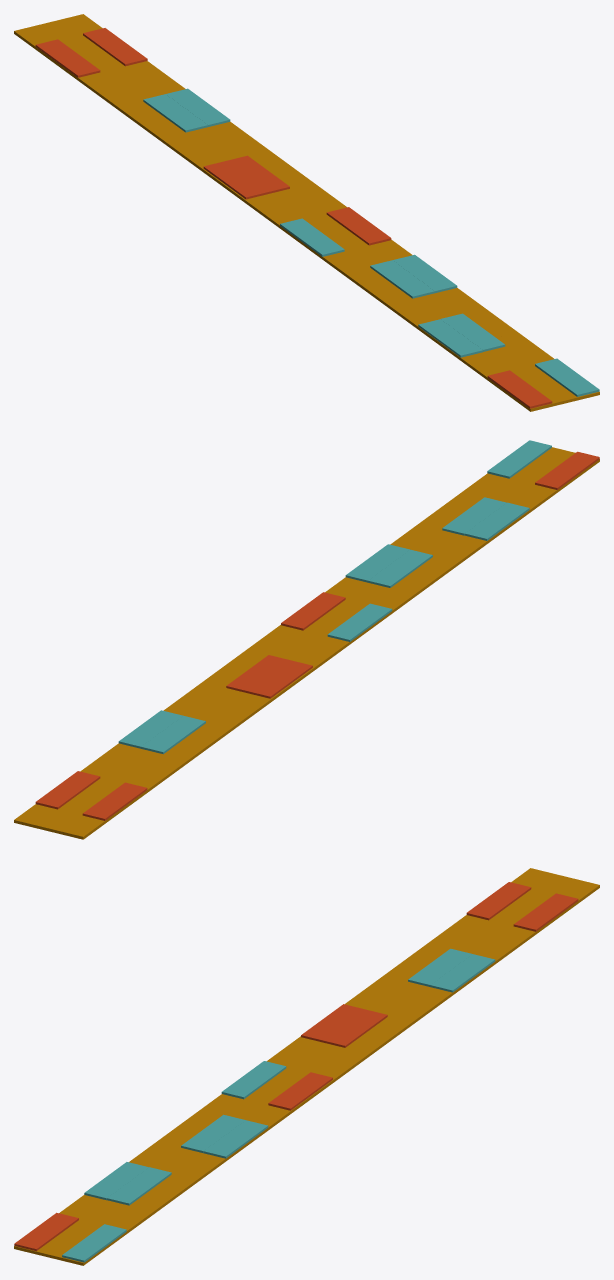
Rendered from _skelet.fbx.
3 renders of one model, top to bottom at view 1: azimuth 30°, elevation 25°; view 2: azimuth 150°, elevation 25°; view 3: azimuth 330°, elevation 25°, orthographic.
Parts seen in each view (by area): view 1: taban3, taban1, taban5, taban11, taban8, taban7, taban13, taban9, taban12, taban6, taban2, taban4 (+15 smaller); view 2: taban3, taban1, taban5, taban11, taban13, taban7, taban8, taban9, taban6, taban2, taban12, taban (+15 smaller); view 3: taban3, taban1, taban5, taban11, taban8, taban7, taban13, taban9, taban12, taban6, taban4, taban2 (+15 smaller).
Part boxes in pixels (x1=…): taban3: x1=161, y1=122, x2=271, y2=171; taban1: x1=77, y1=61, x2=185, y2=110; taban5: x1=243, y1=183, x2=346, y2=231; taban11: x1=448, y1=332, x2=553, y2=381; taban8: x1=366, y1=283, x2=476, y2=321; taban7: x1=325, y1=242, x2=412, y2=292; taban13: x1=14, y1=14, x2=103, y2=64; taban9: x1=407, y1=302, x2=518, y2=351; taban12: x1=490, y1=368, x2=599, y2=411; taban6: x1=284, y1=219, x2=395, y2=261; taban2: x1=119, y1=102, x2=184, y2=140; taban4: x1=203, y1=152, x2=313, y2=201; taban3: x1=163, y1=682, x2=272, y2=731; taban1: x1=80, y1=743, x2=188, y2=792; taban5: x1=244, y1=625, x2=354, y2=670; taban11: x1=449, y1=473, x2=557, y2=521; taban13: x1=14, y1=794, x2=120, y2=839; taban7: x1=327, y1=571, x2=437, y2=610; taban8: x1=390, y1=531, x2=476, y2=579; taban9: x1=408, y1=501, x2=518, y2=551; taban6: x1=308, y1=590, x2=396, y2=640; taban2: x1=164, y1=723, x2=230, y2=761; taban12: x1=511, y1=447, x2=599, y2=492; taban: x1=58, y1=778, x2=146, y2=823; taban3: x1=345, y1=976, x2=453, y2=1025; taban1: x1=425, y1=915, x2=536, y2=964; taban5: x1=267, y1=1037, x2=370, y2=1085; taban11: x1=59, y1=1195, x2=165, y2=1235; taban8: x1=137, y1=1126, x2=248, y2=1175; taban7: x1=177, y1=1096, x2=288, y2=1145; taban13: x1=511, y1=868, x2=599, y2=918; taban9: x1=129, y1=1156, x2=206, y2=1205; taban12: x1=14, y1=1222, x2=123, y2=1265; taban6: x1=218, y1=1072, x2=329, y2=1115; taban4: x1=300, y1=1017, x2=411, y2=1055; taban2: x1=383, y1=945, x2=494, y2=994.
Bounding box in the file's own units: 24.32 × 1.64 × 311.
